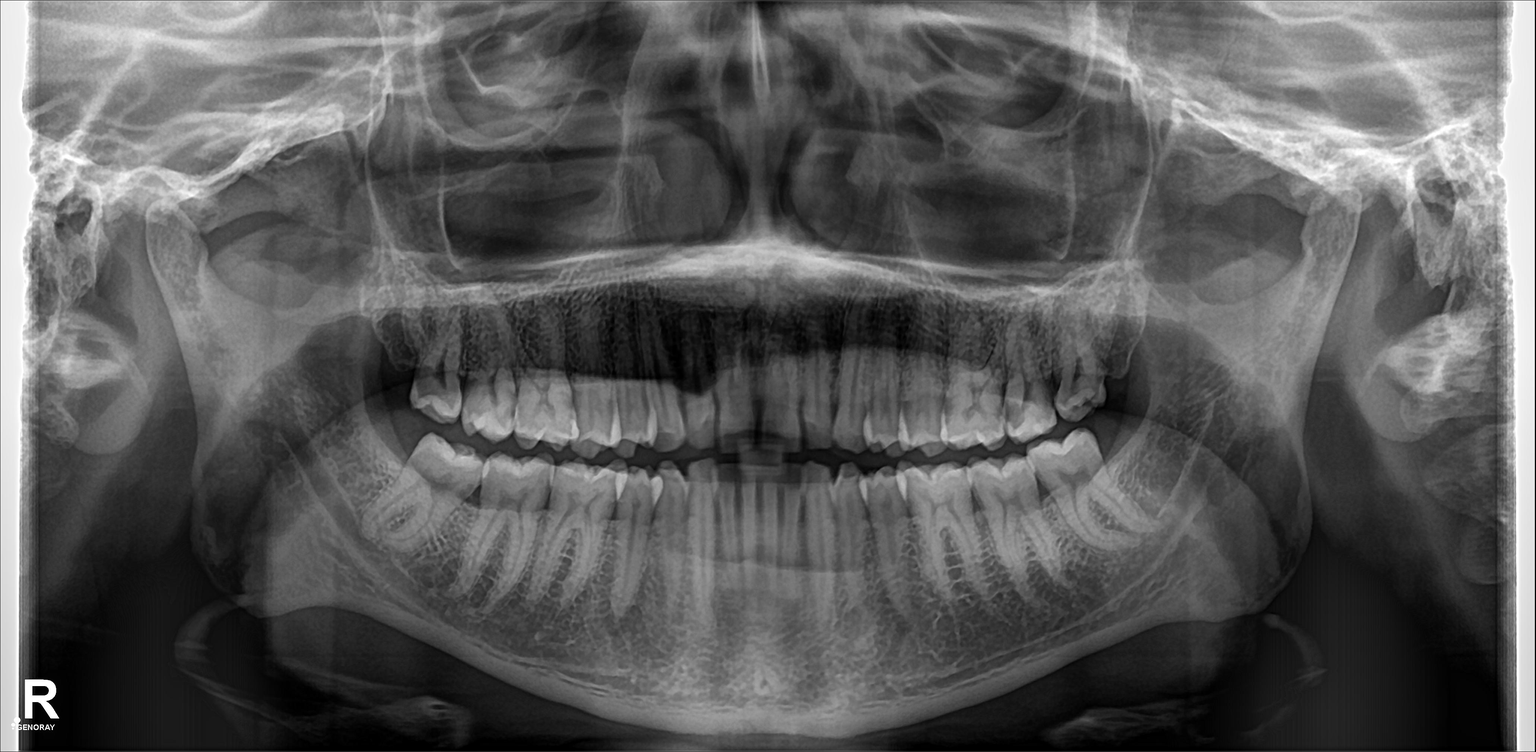Dental Caries: (1000, 396, 1028, 426)
Missing Tooth: (363, 309, 422, 395), (359, 411, 405, 509), (1104, 423, 1150, 499), (1102, 307, 1134, 390)
